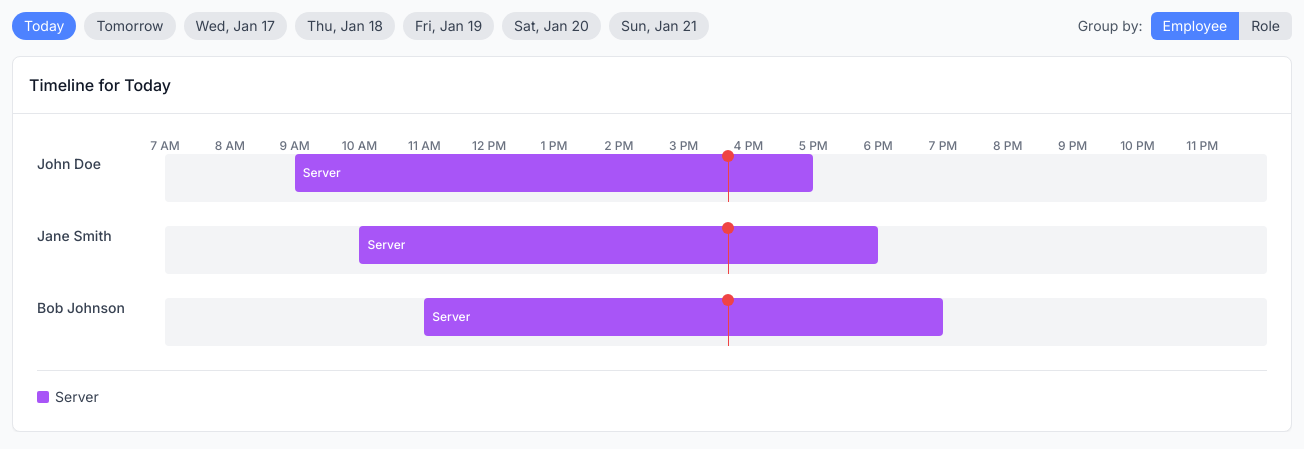
it: TimelineView Component › Overlap Handling › should stack overlapping shifts when grouped by role
Note: Switch to role grouping
Click the button "Role".
click(1266, 26)  # box [1239,12,1292,40]
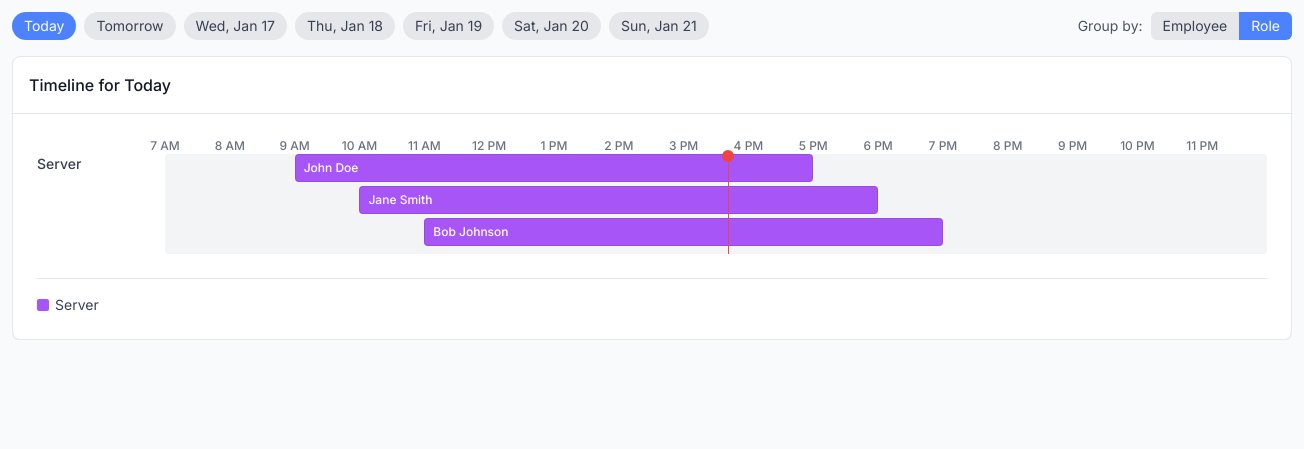
Check: the element showing "John Doe Jane Smith Bob Johnson" is shown, box [165,154,1267,254]
